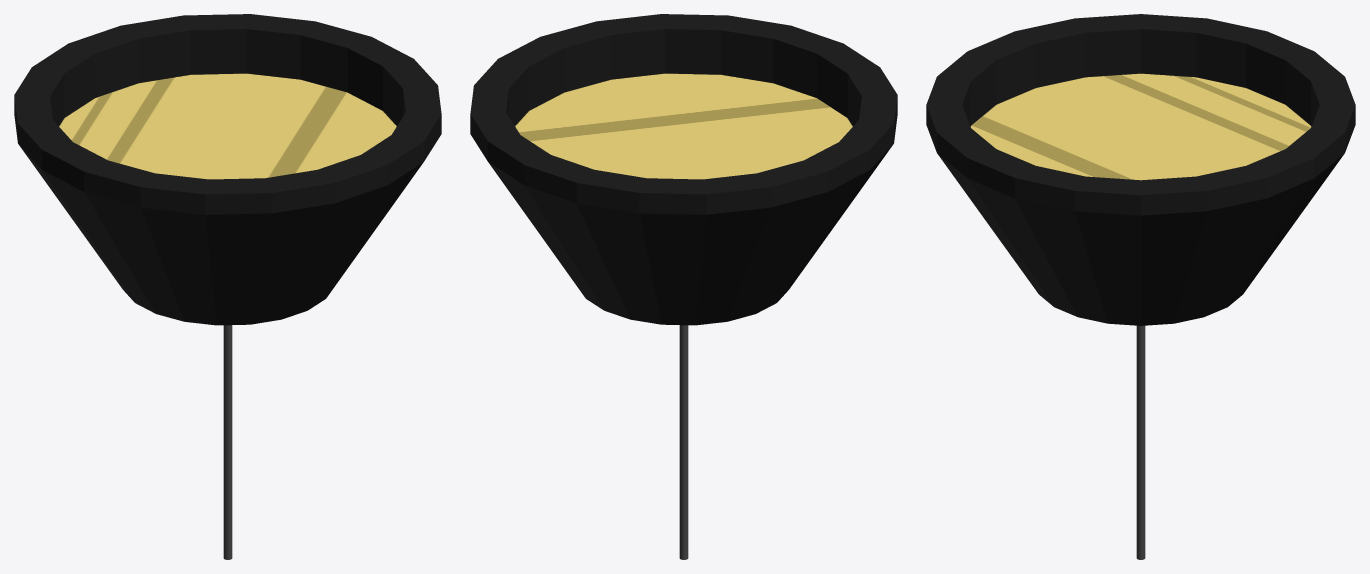
File: Light.fbx
3 views of the same model, side by side, from view 1: azimuth 30°, elevation 25°; view 2: azimuth 150°, elevation 25°; view 3: azimuth 270°, elevation 25° (orthographic).
Parts seen in each view (by area): view 1: pCone2; view 2: pCone2; view 3: pCone2.
Boxes of the visible parts, <box> form: pCone2: <box>14,14,441,559</box>; pCone2: <box>470,14,897,559</box>; pCone2: <box>926,14,1355,559</box>.
Size of the model in its own units: 2 by 2.33 by 2.
